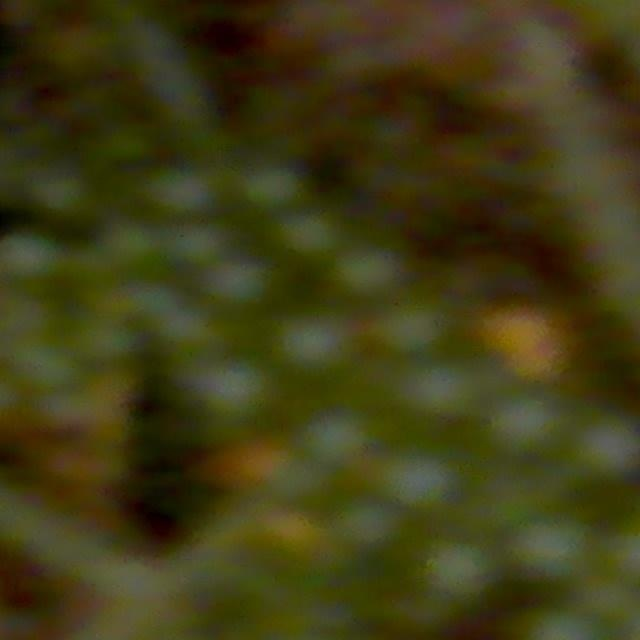SeaGrape: (266, 295, 357, 389), (412, 527, 489, 608), (196, 353, 275, 427), (518, 512, 592, 588), (300, 413, 378, 484), (493, 388, 561, 462), (331, 243, 408, 308), (411, 350, 479, 417), (569, 418, 640, 482), (382, 450, 457, 508), (379, 295, 447, 350), (277, 207, 342, 263), (237, 164, 301, 218)
